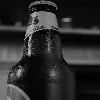beer: (3, 1, 80, 97)
